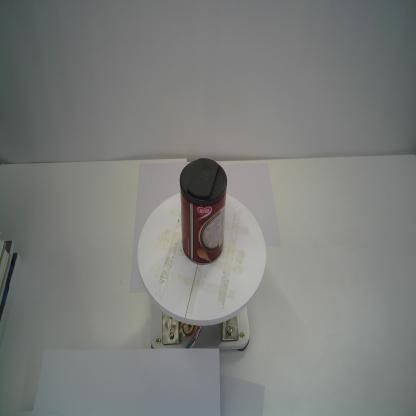Canned Food: (179, 157, 228, 266)
